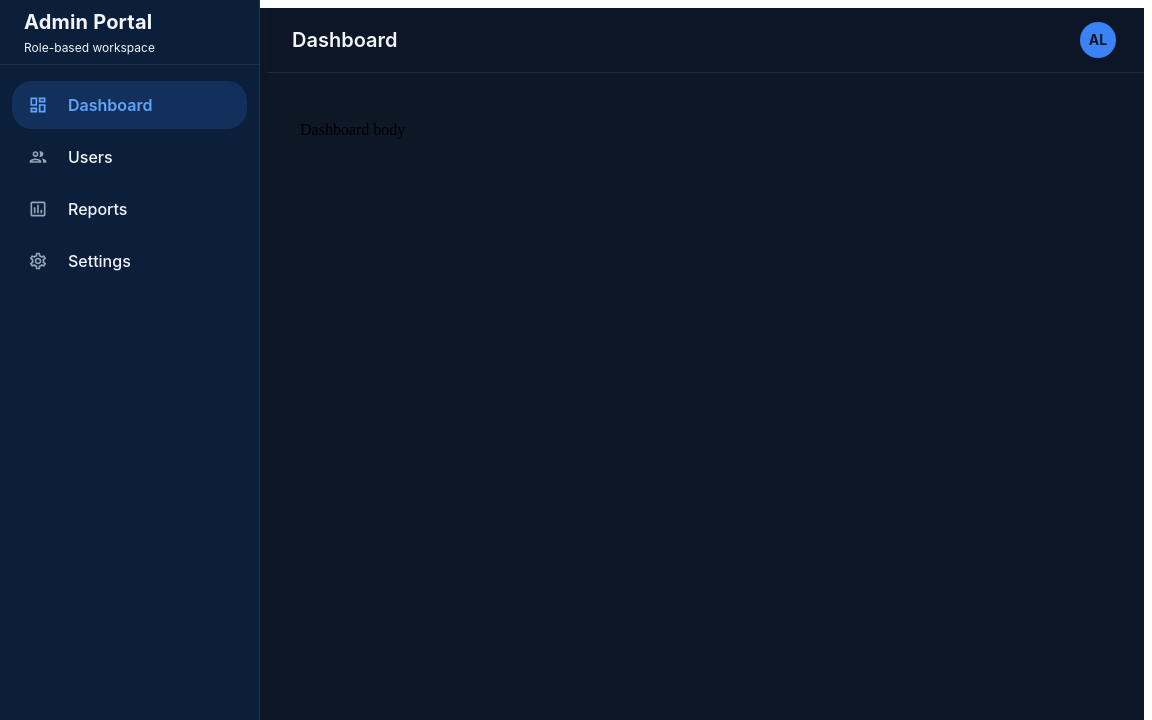
AppShell › opens and closes the profile drawer from the avatar
Expected: the text "ada@example.com" is not shown
Click the button with aria-label "Open profile". click: (1098, 40)
box: [1076,18,1120,62]
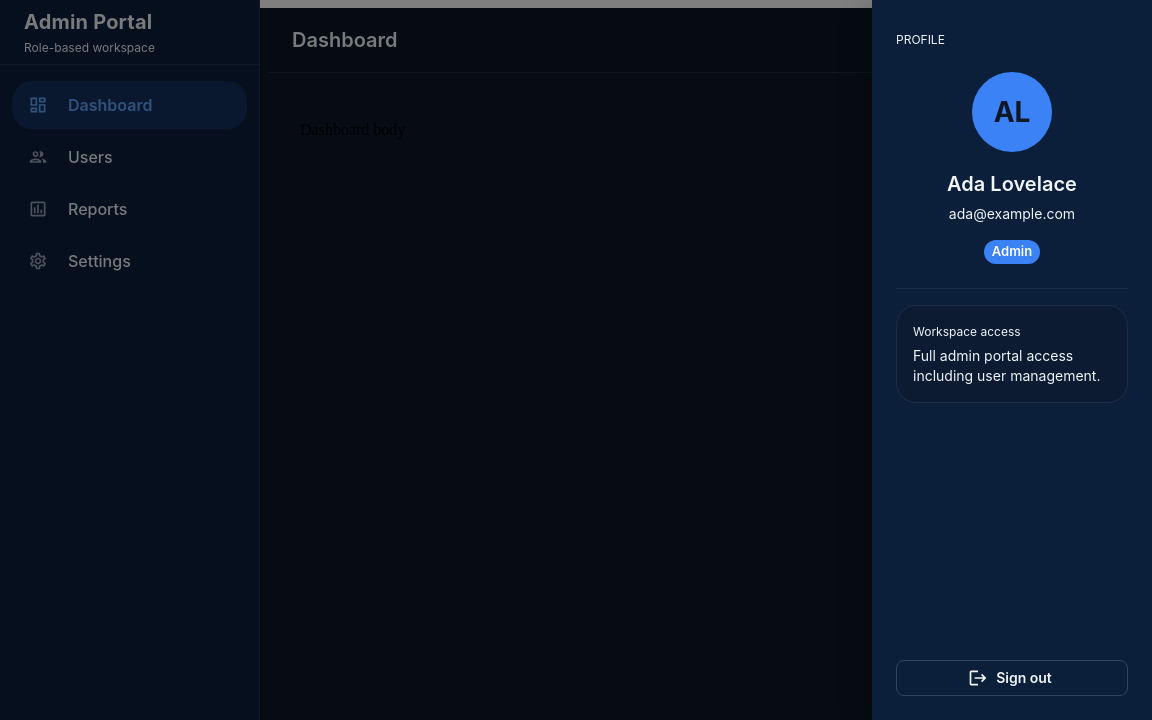
Expected: the text "ada@example.com" is shown, [947,204,1077,224]
Press Escape in the element that starts with "Profile"
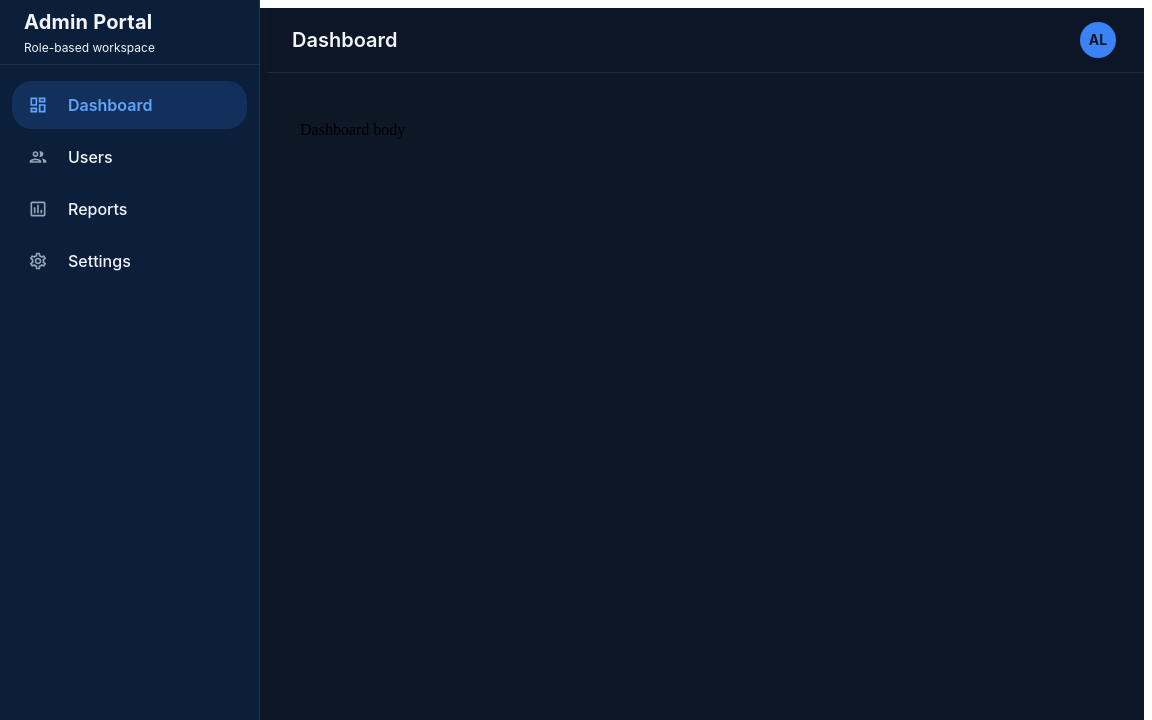
Expected: the text "ada@example.com" is gone
